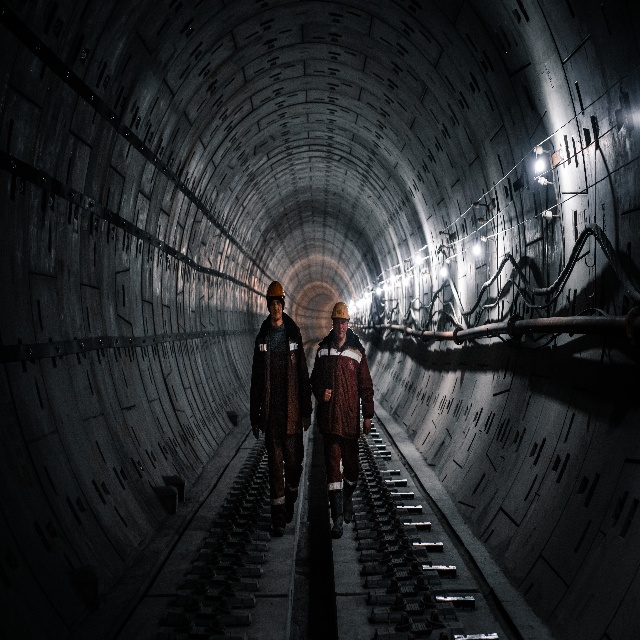Guantes: (301, 416, 312, 432), (252, 423, 260, 441)
Sin_guantes: (323, 387, 333, 402), (363, 417, 371, 435)
